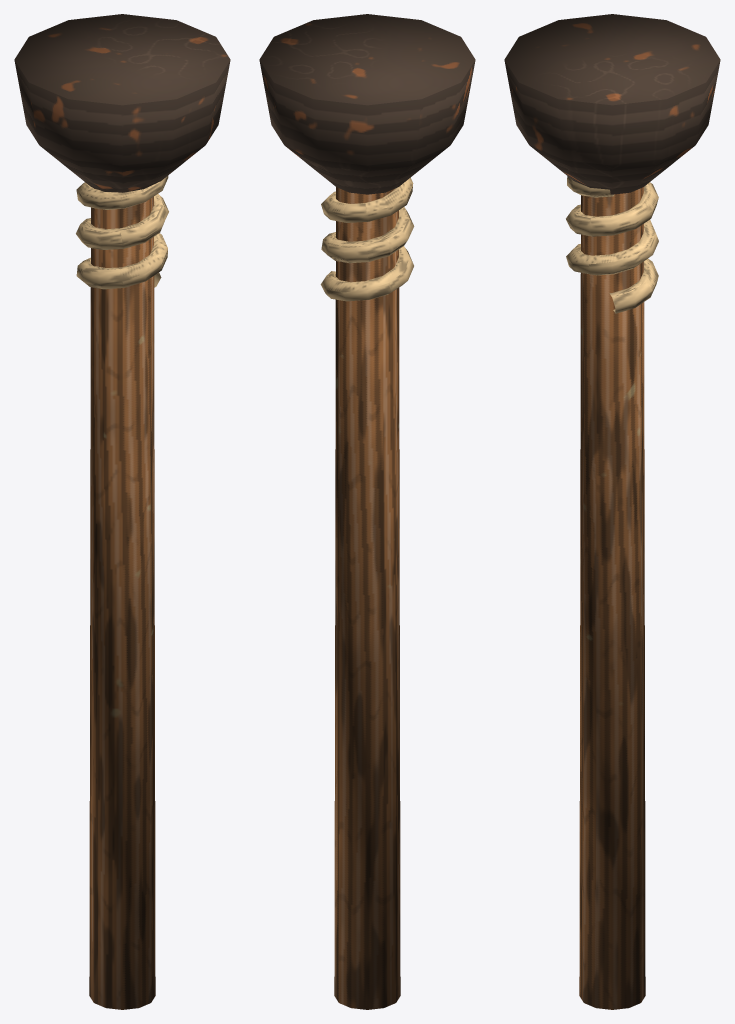
Rendered from torch.glb.
3 renders of one model, left to right at view 1: azimuth 30°, elevation 25°; view 2: azimuth 150°, elevation 25°; view 3: azimuth 270°, elevation 25°, orthographic.
Visible parts, largest first — view 1: Torch; view 2: Torch; view 3: Torch.
Boxes of the visible parts, x1,y1,x2,y2 form: Torch: (14, 14, 230, 1009); Torch: (259, 14, 475, 1009); Torch: (504, 14, 720, 1009).
Bounding box in the file's own units: 0.36 × 1.72 × 0.36.
Materials: 1 (1 with a texture image).
